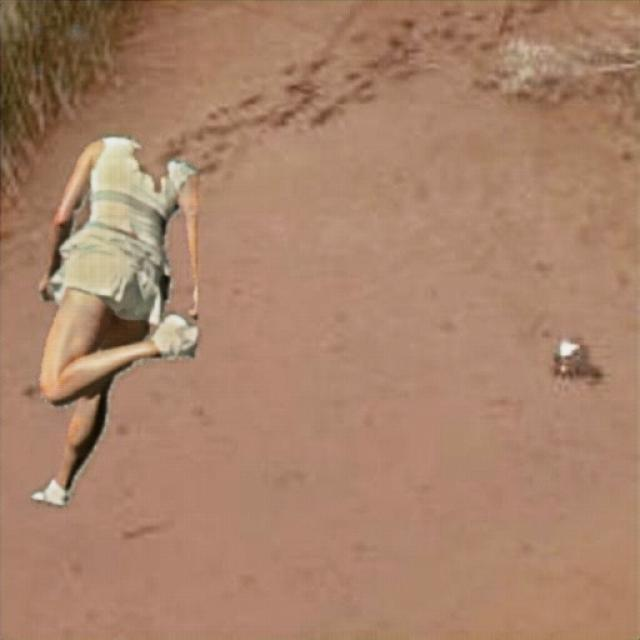Person in Rubble: (32, 137, 196, 505)
